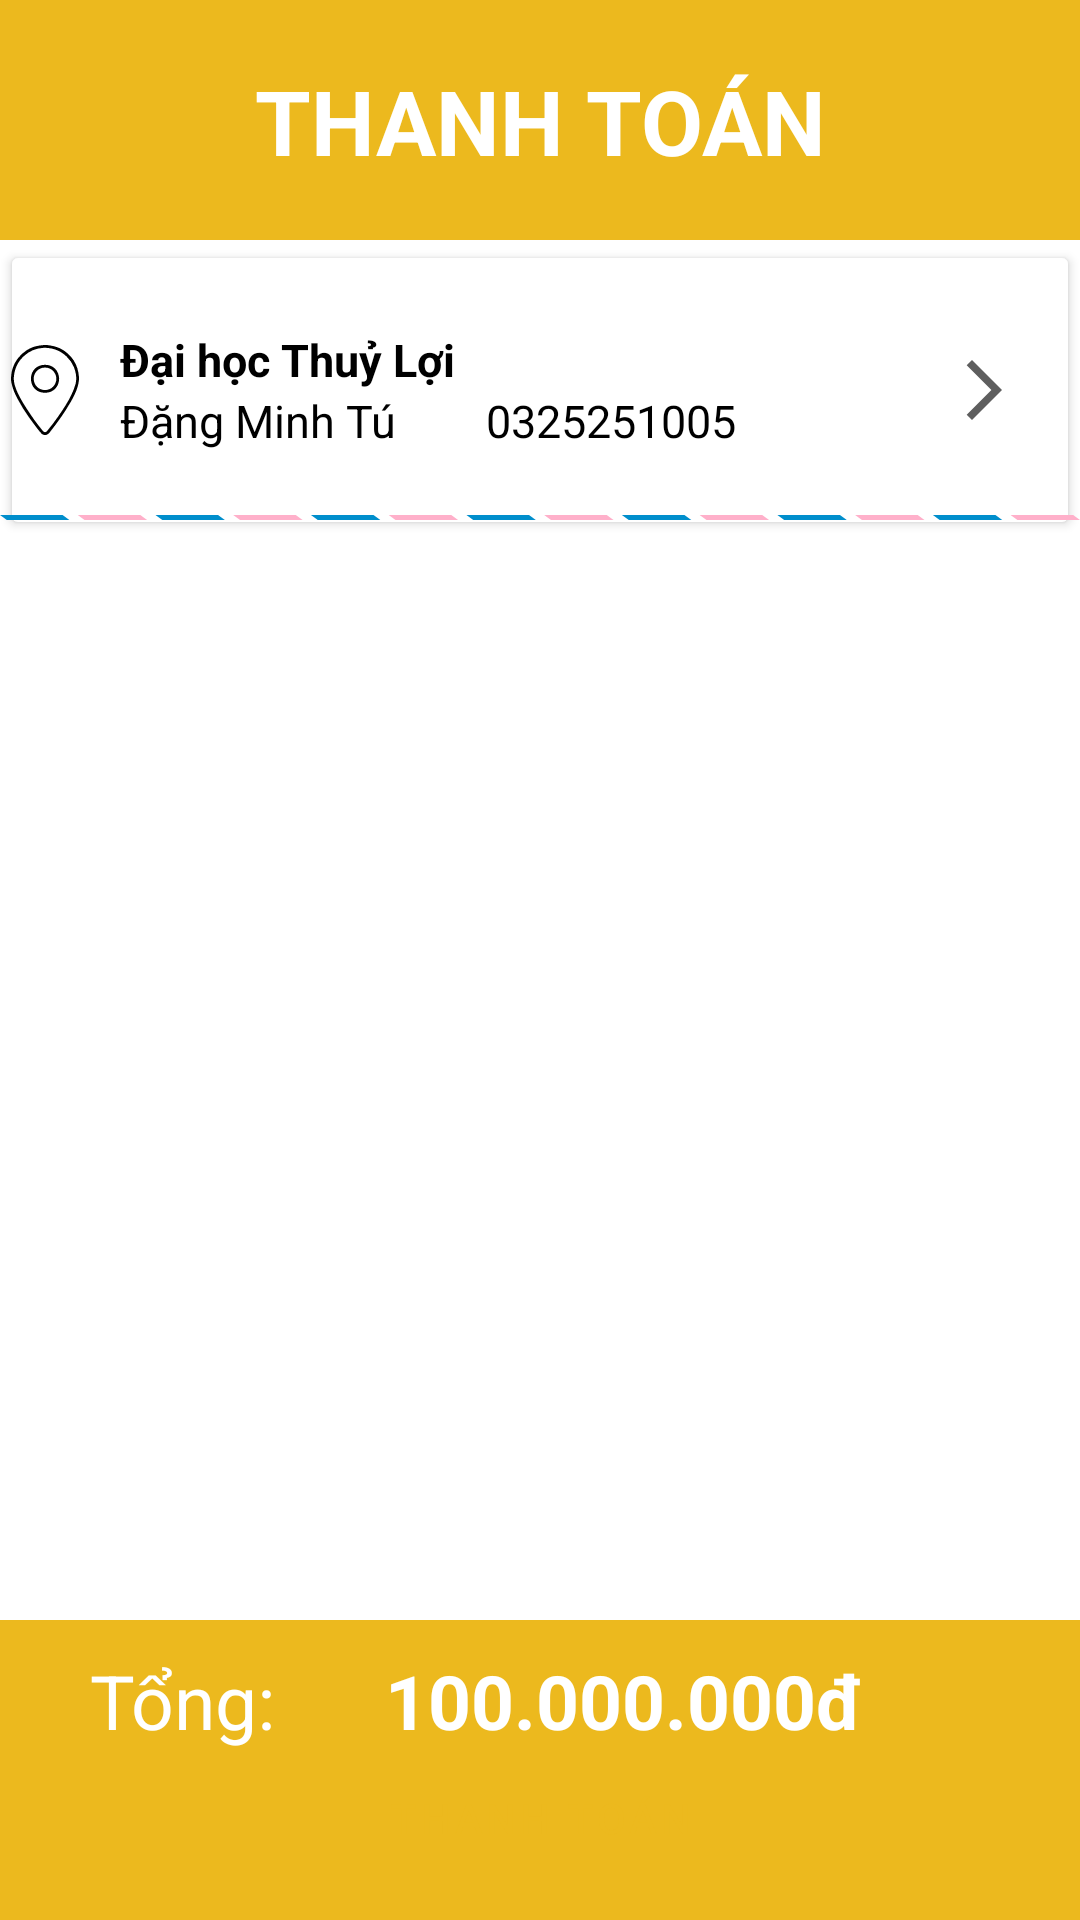

Locate icon controls on the screen. Image size 1080 × 1920, boxes as [x1,y1,x2,y2].
arrow forward: [967,360,1002,420]
location: [11,345,79,435]
